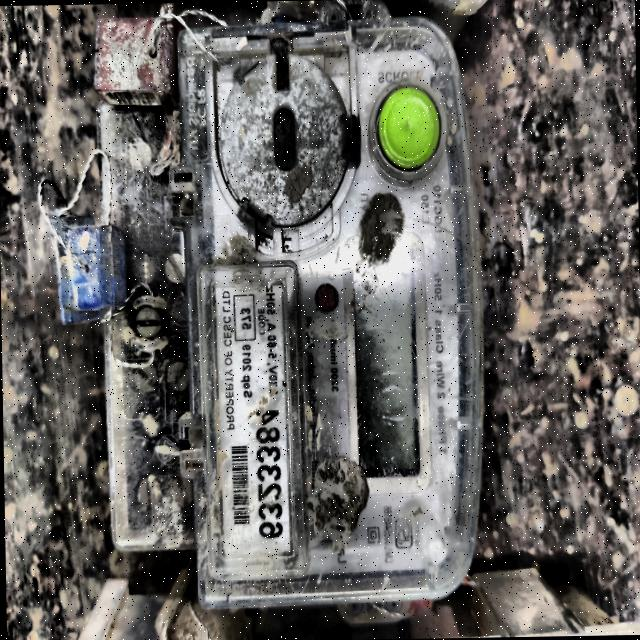Digital: (72, 0, 491, 612)
Reading: (356, 276, 414, 468)
Serial No.: (248, 402, 286, 545)
